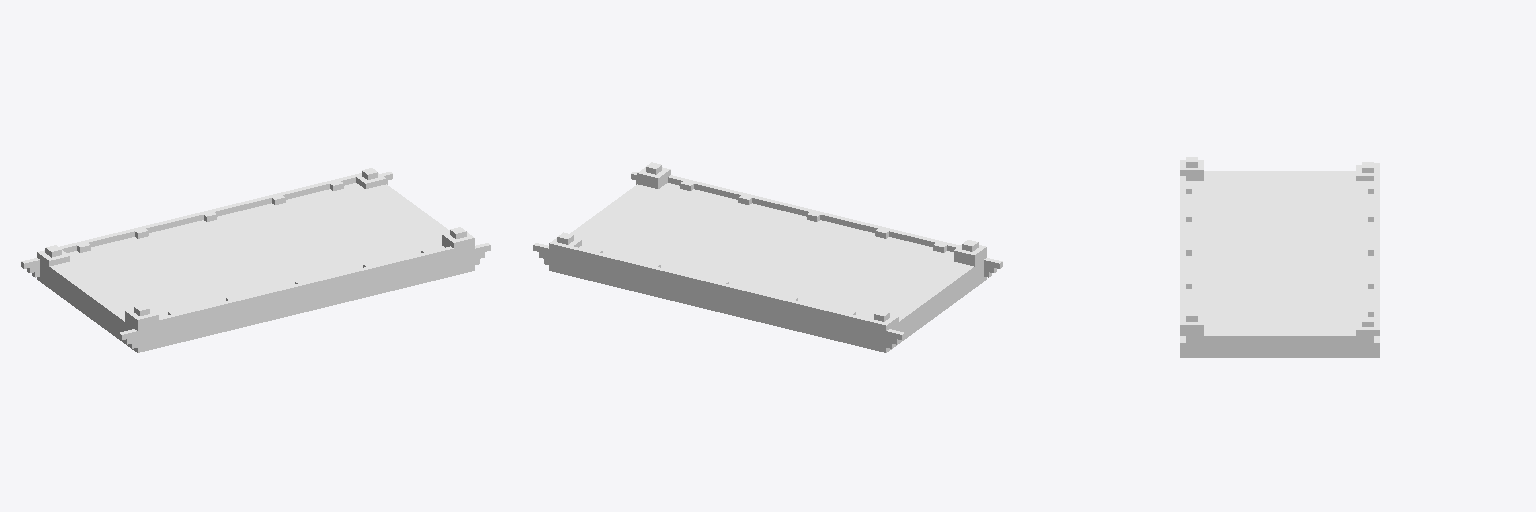
Rendered from Bridge.obj.
The picture shows the model from 3 angles: view 1: azimuth 30°, elevation 25°; view 2: azimuth 150°, elevation 25°; view 3: azimuth 270°, elevation 25°; orthographic projection.
Bounding box in the file's own units: 70 × 7 × 33.